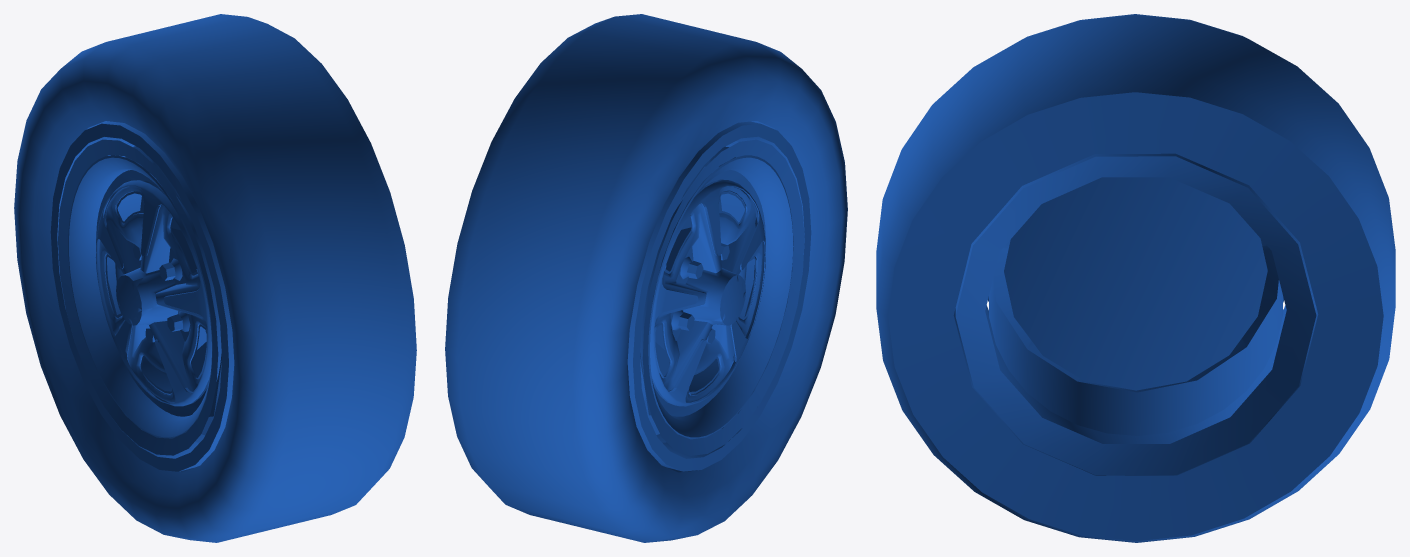
File: Llanta_TD.obj
3 views of the same model, side by side, from view 1: azimuth 30°, elevation 25°; view 2: azimuth 150°, elevation 25°; view 3: azimuth 270°, elevation 25° (orthographic).
Parts seen in each view (by area): view 1: wheel03_pivot; view 2: wheel03_pivot; view 3: wheel03_pivot.
Boxes of the visible parts, x1,y1,x2,y2 form: wheel03_pivot: [14, 14, 416, 542]; wheel03_pivot: [445, 14, 847, 542]; wheel03_pivot: [876, 14, 1395, 542].
Size of the model in its own units: 2.31 by 6.14 by 6.14.
